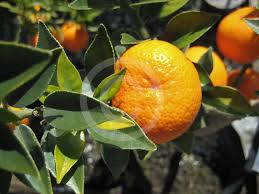orange: (111, 39, 204, 141)
